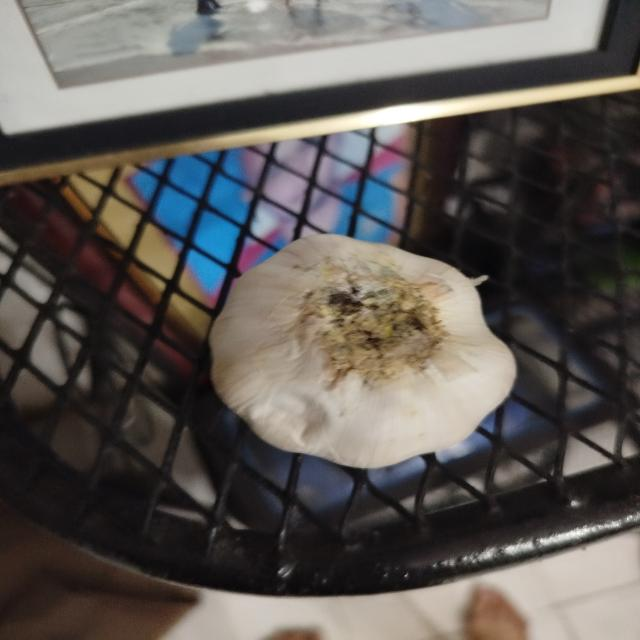garlic: (207, 232, 518, 470)
